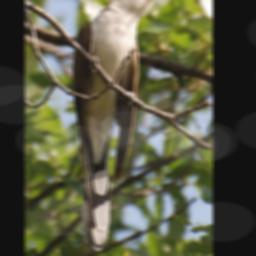Cuckoo: (70, 0, 169, 254)
